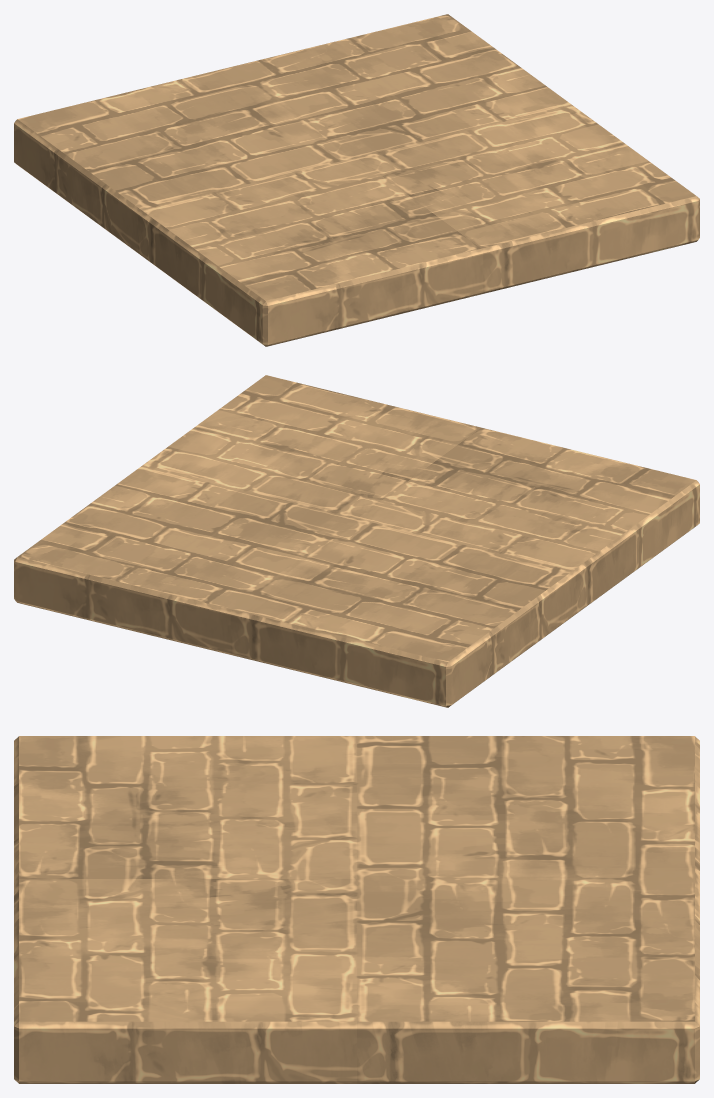
File: foundation_2x2.gltf
3 renders of one model, top to bottom at view 1: azimuth 30°, elevation 25°; view 2: azimuth 150°, elevation 25°; view 3: azimuth 270°, elevation 25°, orthographic. The views are drawn at different scales.
Parts seen in each view (by area): view 1: foundation_2x2; view 2: foundation_2x2; view 3: foundation_2x2.
Part boxes in pixels (x1,y1,x2,y2): foundation_2x2: [14, 14, 699, 346]; foundation_2x2: [14, 375, 699, 707]; foundation_2x2: [14, 736, 699, 1083].
Size of the model in its own units: 2 by 0.2 by 2.
Materials: 1 (1 with a texture image).
